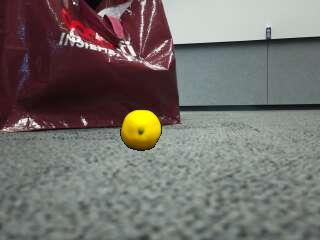lemon: (121, 111, 161, 151)
